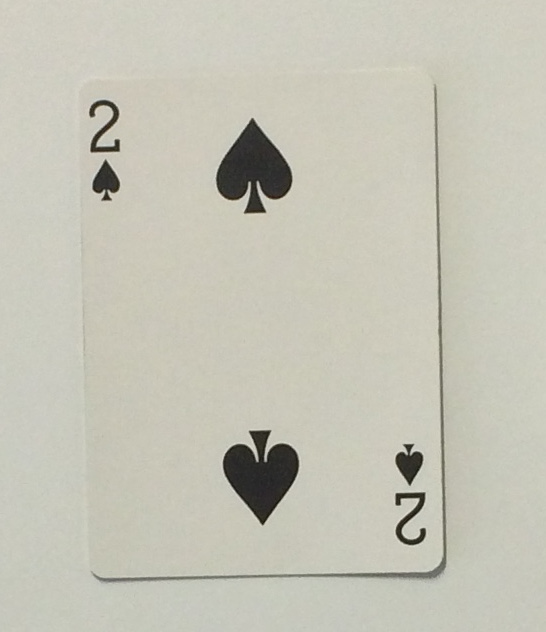2: (84, 89, 127, 159)
S: (87, 159, 126, 207)
